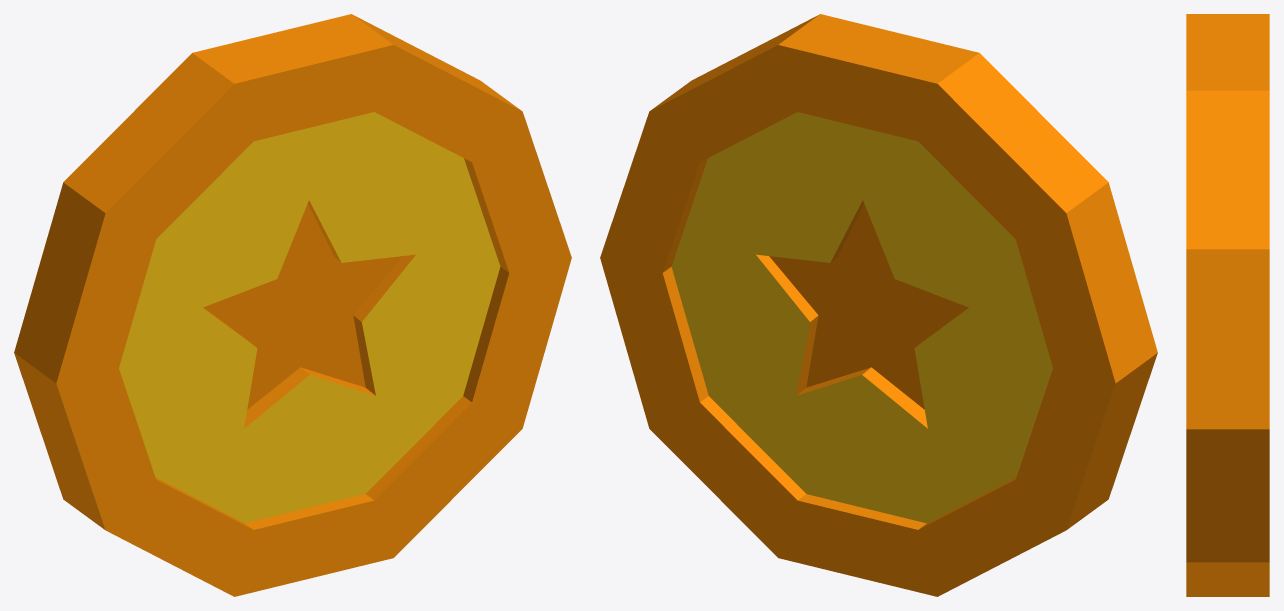
The model's file is Coin_y.fbx.
The picture shows the model from 3 angles, left to right: view 1: azimuth 30°, elevation 25°; view 2: azimuth 150°, elevation 25°; view 3: azimuth 270°, elevation 25°; orthographic projection.
Parts seen in each view (by area): view 1: Coin_y; view 2: Coin_y; view 3: Coin_y.
Part boxes in pixels (bbox=[...]): Coin_y: bbox=[14, 14, 571, 596]; Coin_y: bbox=[600, 14, 1157, 596]; Coin_y: bbox=[1186, 14, 1269, 596].
Bounding box in the file's own units: 9.71 × 9.23 × 1.38.
